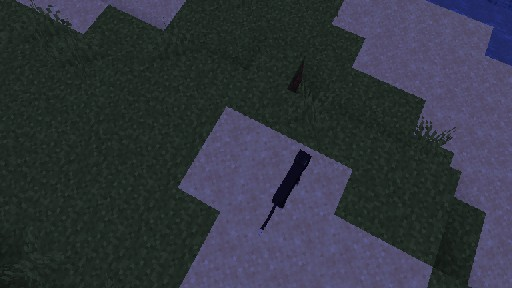cat: (257, 148, 311, 235)
